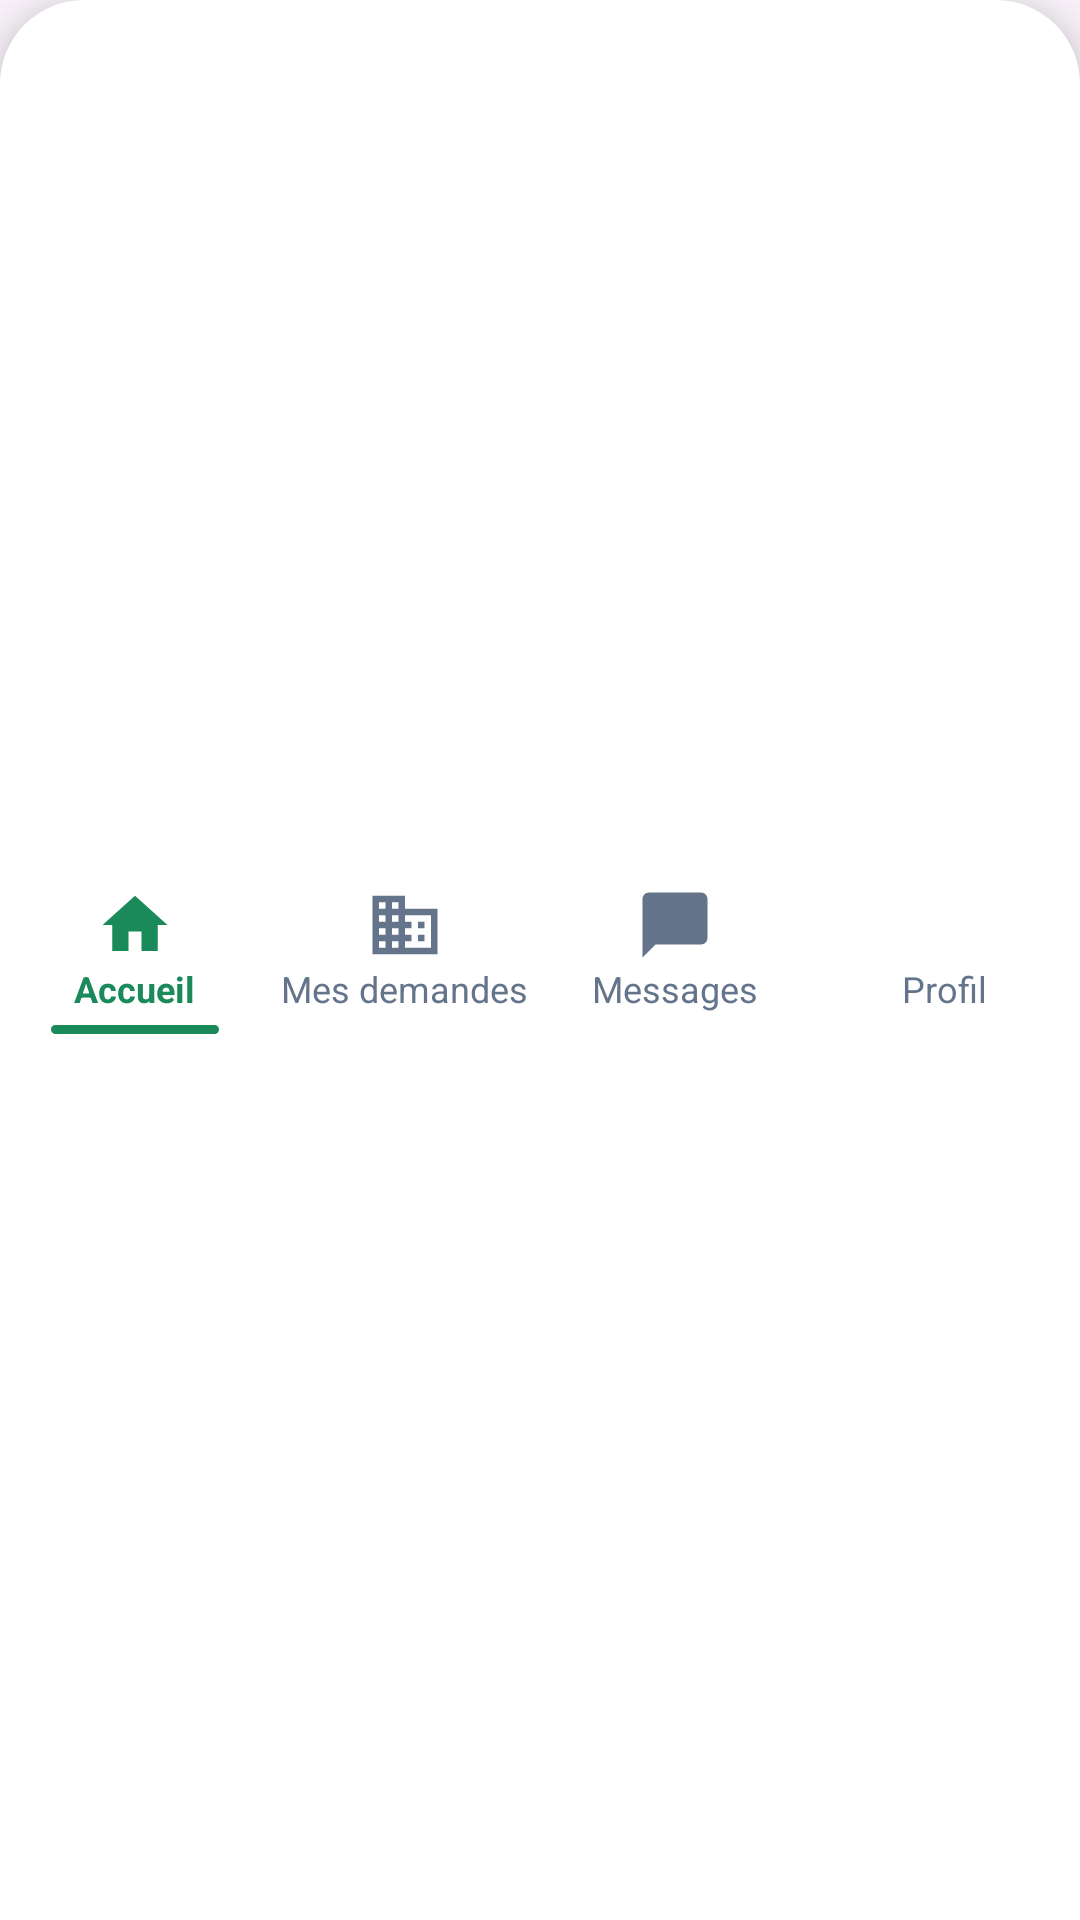

Icon bounding boxes for this 1080px×1920px phone screenshot, format (x1, y1, x2, y2):
building: (372, 895, 438, 955)
